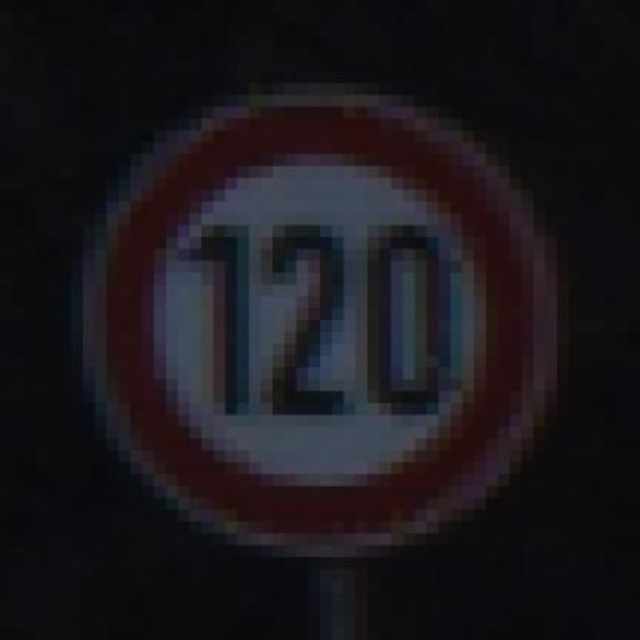Tốc độ tối đa cho phép 120km/h: (95, 101, 548, 545)
